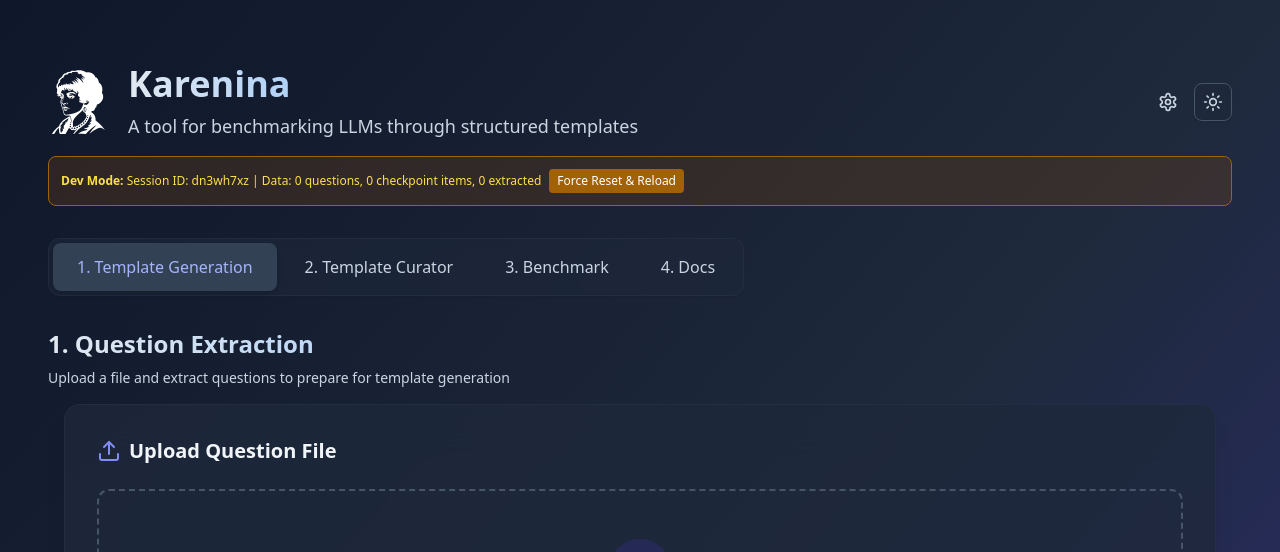
it: App Component › Tab Navigation › should preserve tab state during navigation
# Switch to curator tab
Click the button "2. Template Curator". click: (379, 267)
box: left=281, top=243, right=477, bottom=291
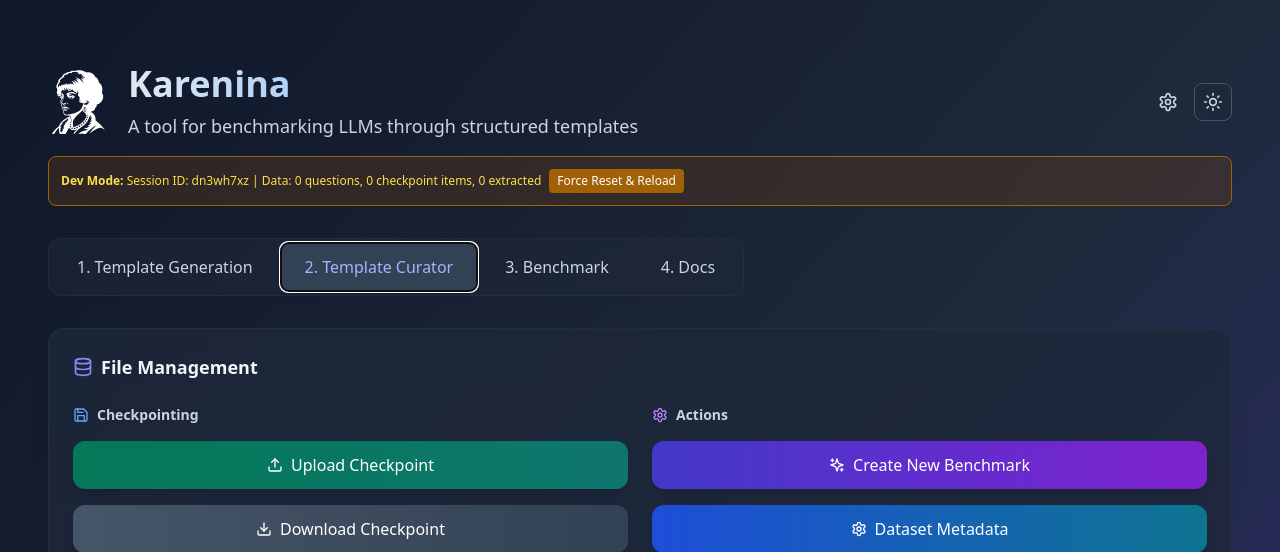
# Switch to another tab and back
Click the button "3. Benchmark". click: (557, 267)
box: left=481, top=243, right=633, bottom=291
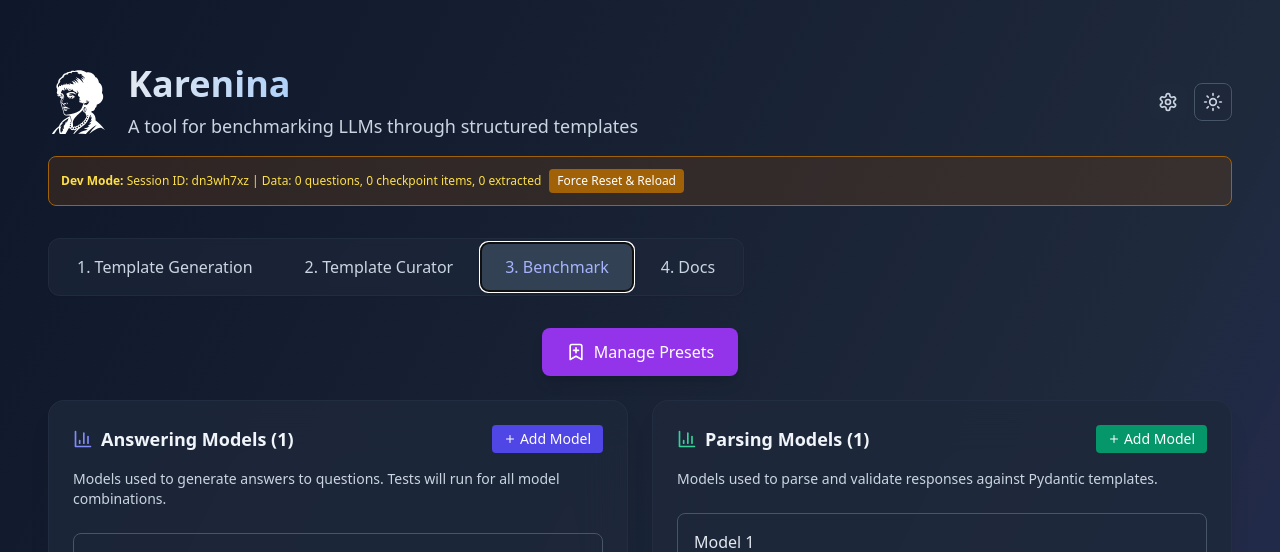
Click the button "2. Template Curator". click: (379, 267)
box: left=281, top=243, right=477, bottom=291
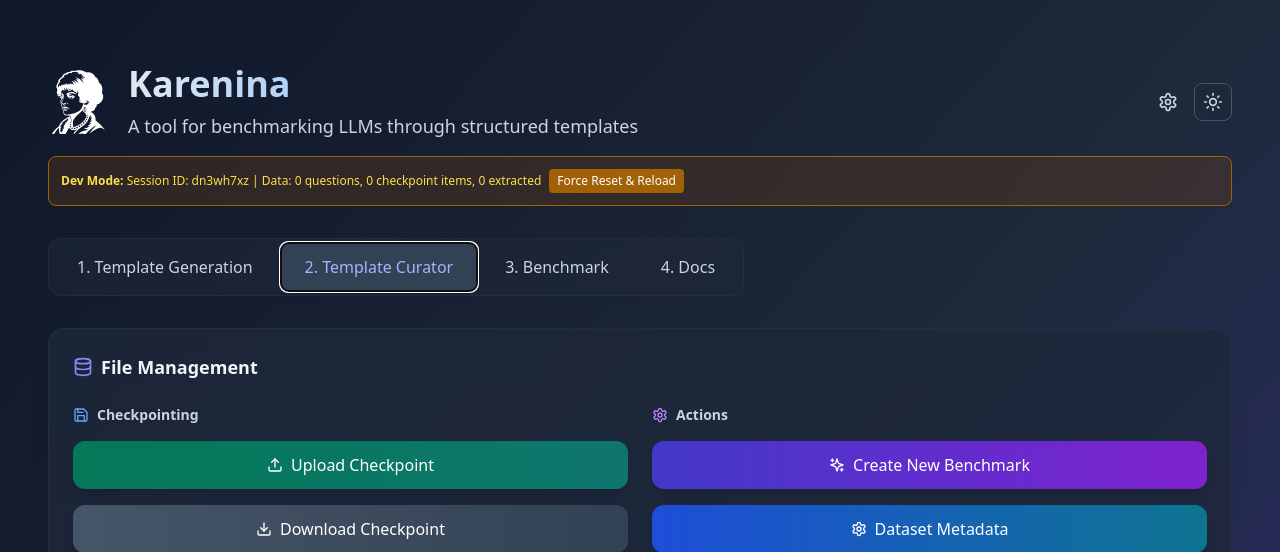
Expected: the heading "File Management" is shown, left=73, top=355, right=258, bottom=379
